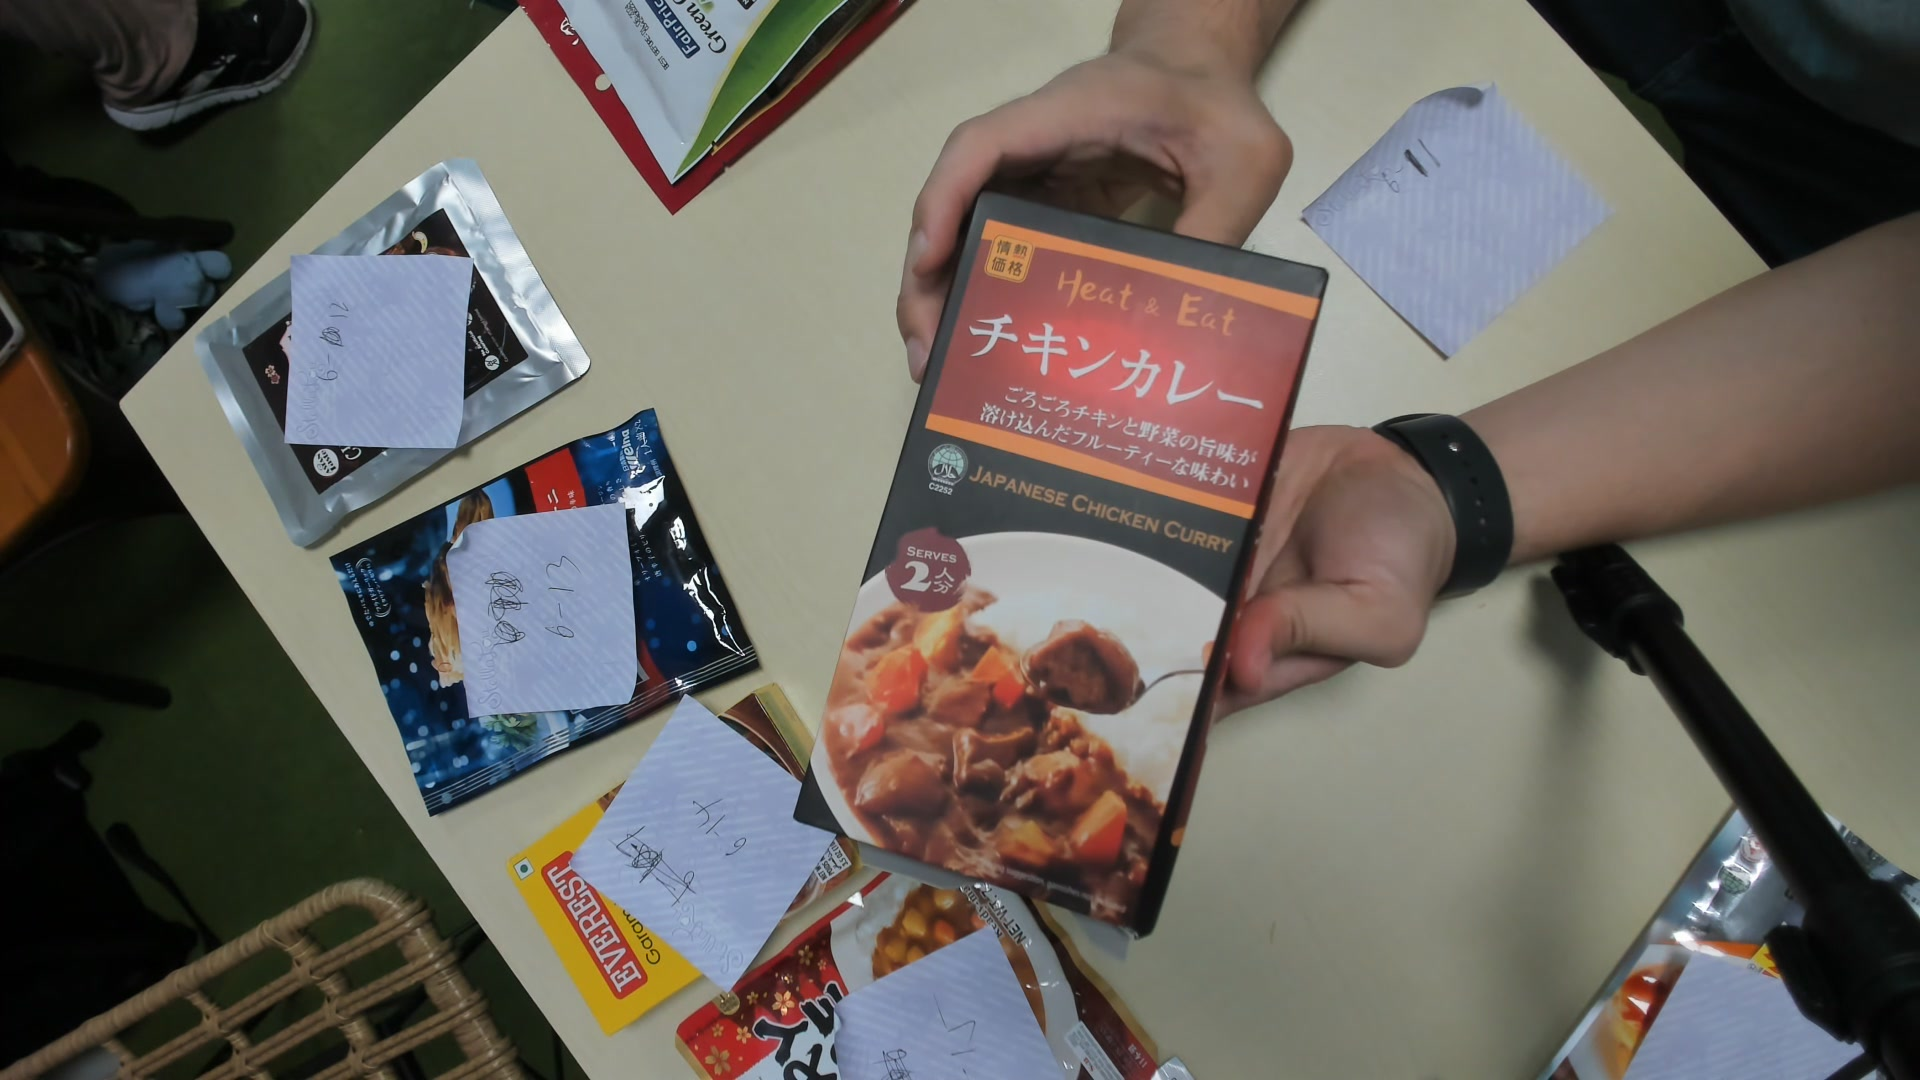CurryPastePowderSauce_200-299g_Halal_NonHealthy: (791, 185, 1335, 939)
